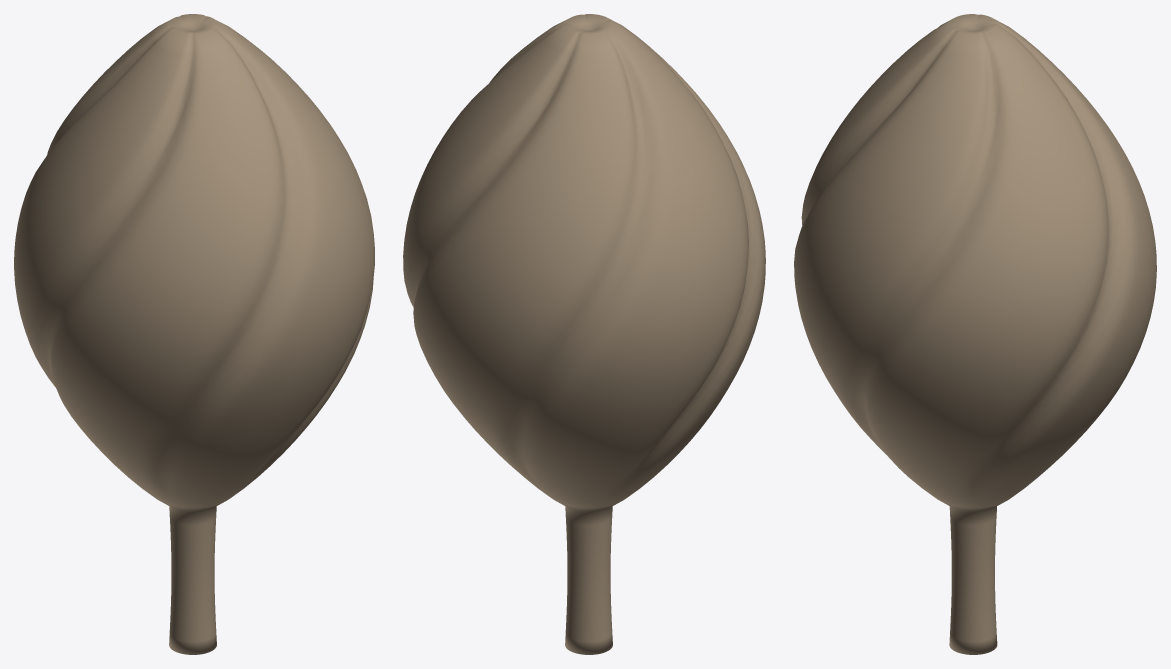
The model's file is helicocystis.glb.
3 renders of one model, left to right at view 1: azimuth 30°, elevation 25°; view 2: azimuth 150°, elevation 25°; view 3: azimuth 270°, elevation 25°, orthographic.
Parts seen in each view (by area): view 1: stalk-basal-cup-and-five-inset-spiral-ambulacra; view 2: stalk-basal-cup-and-five-inset-spiral-ambulacra; view 3: stalk-basal-cup-and-five-inset-spiral-ambulacra.
Part boxes in pixels (x1,y1,x2,y2): stalk-basal-cup-and-five-inset-spiral-ambulacra: (14,14,374,654); stalk-basal-cup-and-five-inset-spiral-ambulacra: (403,14,765,654); stalk-basal-cup-and-five-inset-spiral-ambulacra: (794,14,1156,654).
Bounding box in the file's own units: 0.0529 × 0.1 × 0.053.
